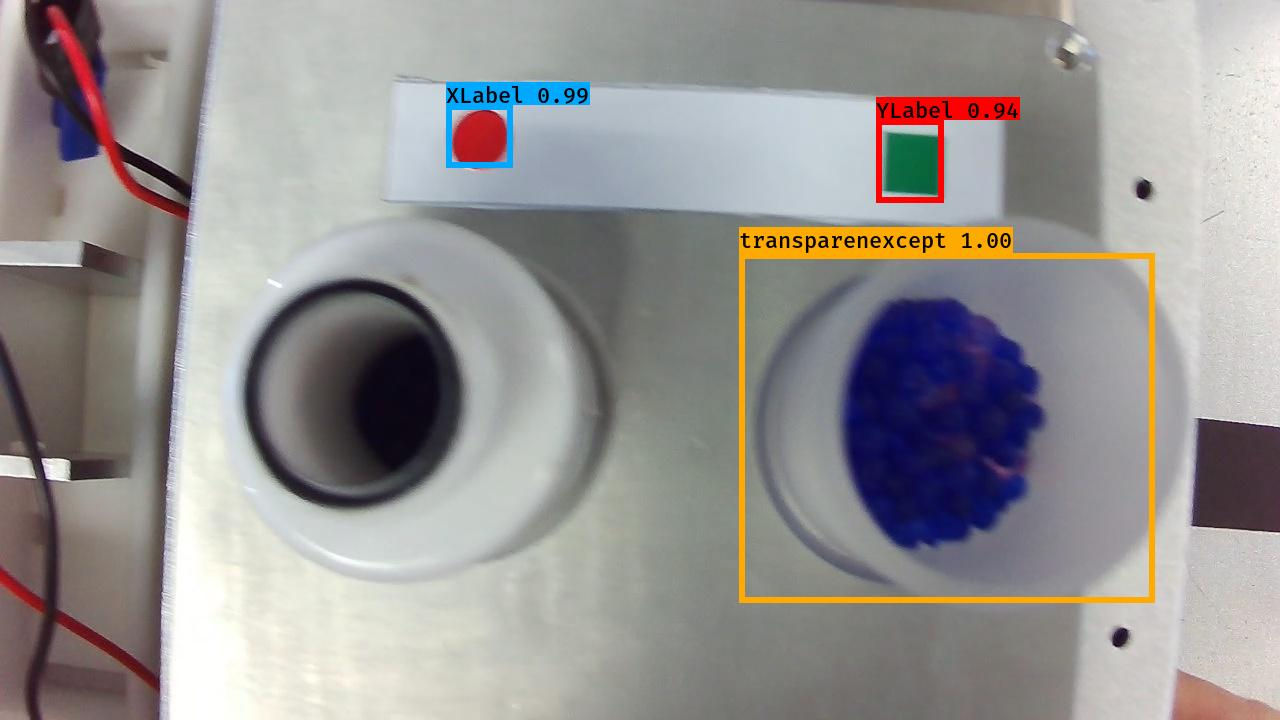XLabel: (448, 104, 515, 172)
YLabel: (879, 124, 947, 197)
transparenexcept: (750, 210, 1196, 619)
whiteexcept: (208, 206, 622, 587)
